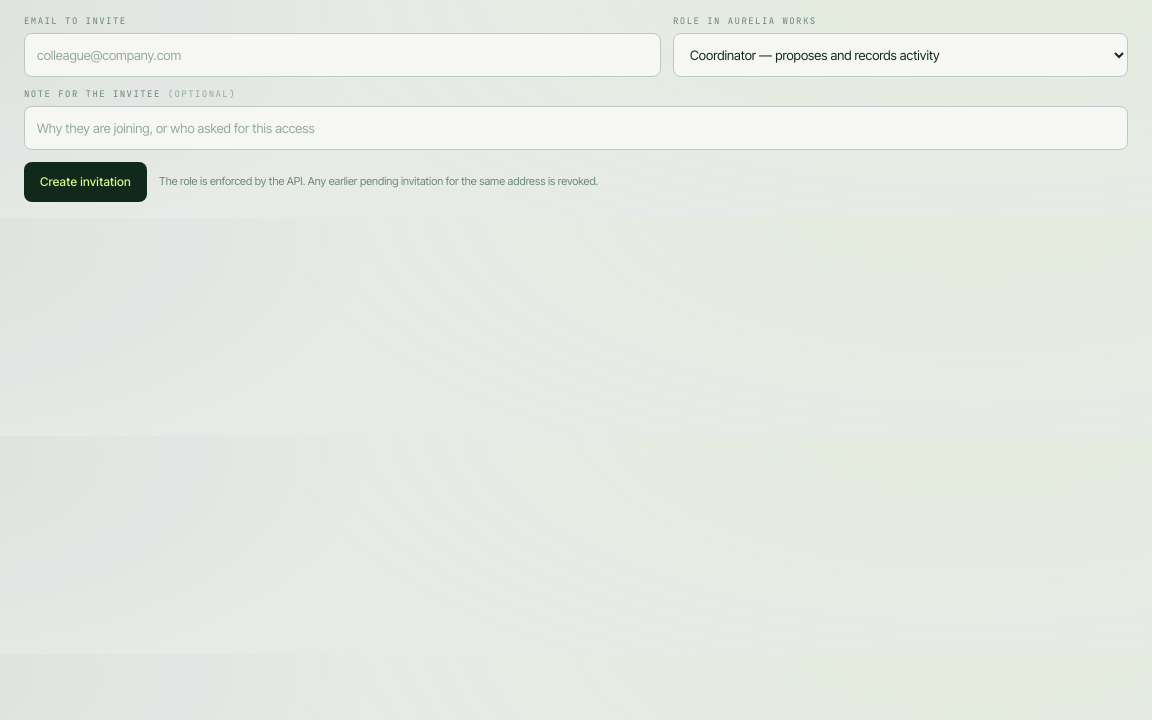
Scenario: invitation creation form › shows the development delivery link with an explicit warning
The width and height of the screenshot is (1152, 720).
Type "colleague@example.com" into the field labelled "Email to invite" at coordinates (342, 55), box [24,33,661,77]
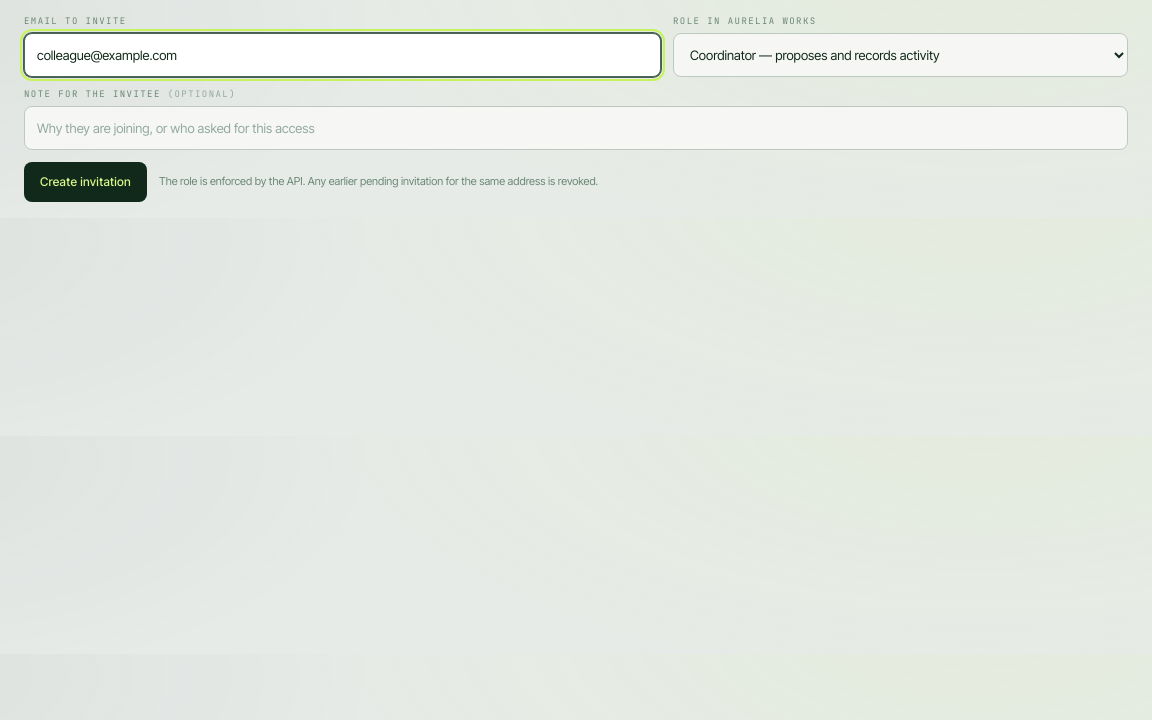
Click the button "Create invitation" at coordinates (86, 182), box [24,162,147,202]
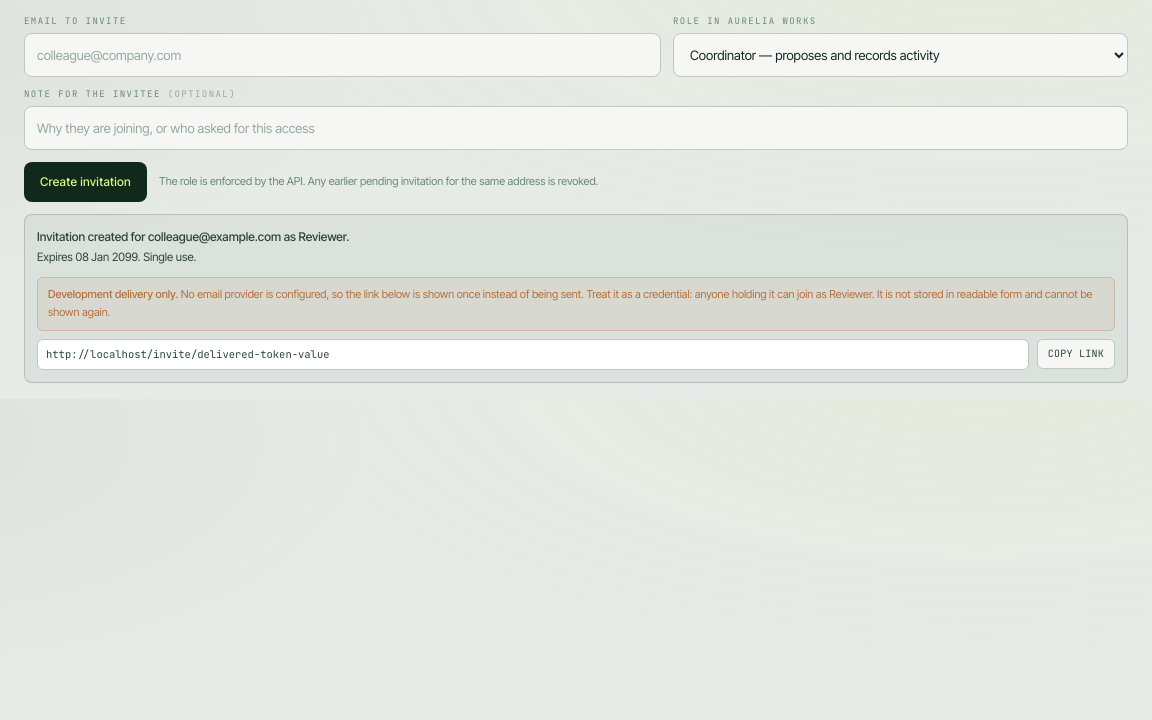
Expected: the text "Development delivery only." is shown, [48,287,178,301]
Expected: the text "http://localhost/invite/delivered-token-value" is shown, [37,338,1029,370]
Expected: the text "cannot be shown again" is shown, [48,287,1092,319]
